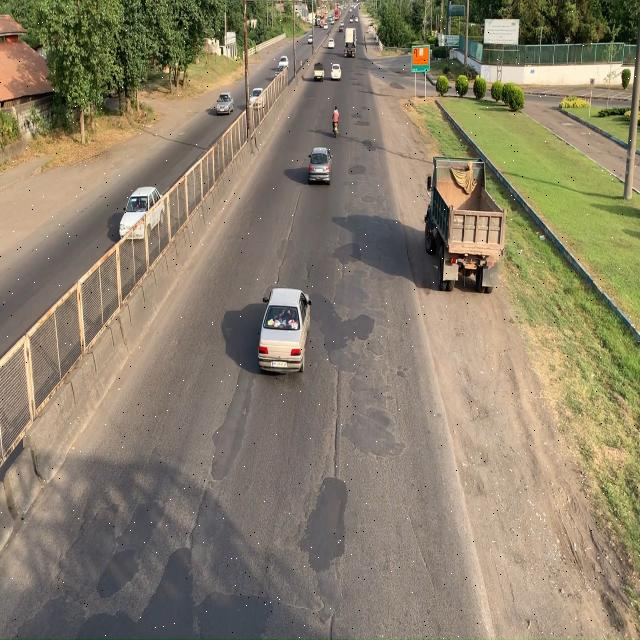Truck: (426, 153, 506, 297)
cars: (258, 280, 316, 375), (118, 180, 166, 248), (306, 141, 338, 191), (216, 88, 235, 119)
